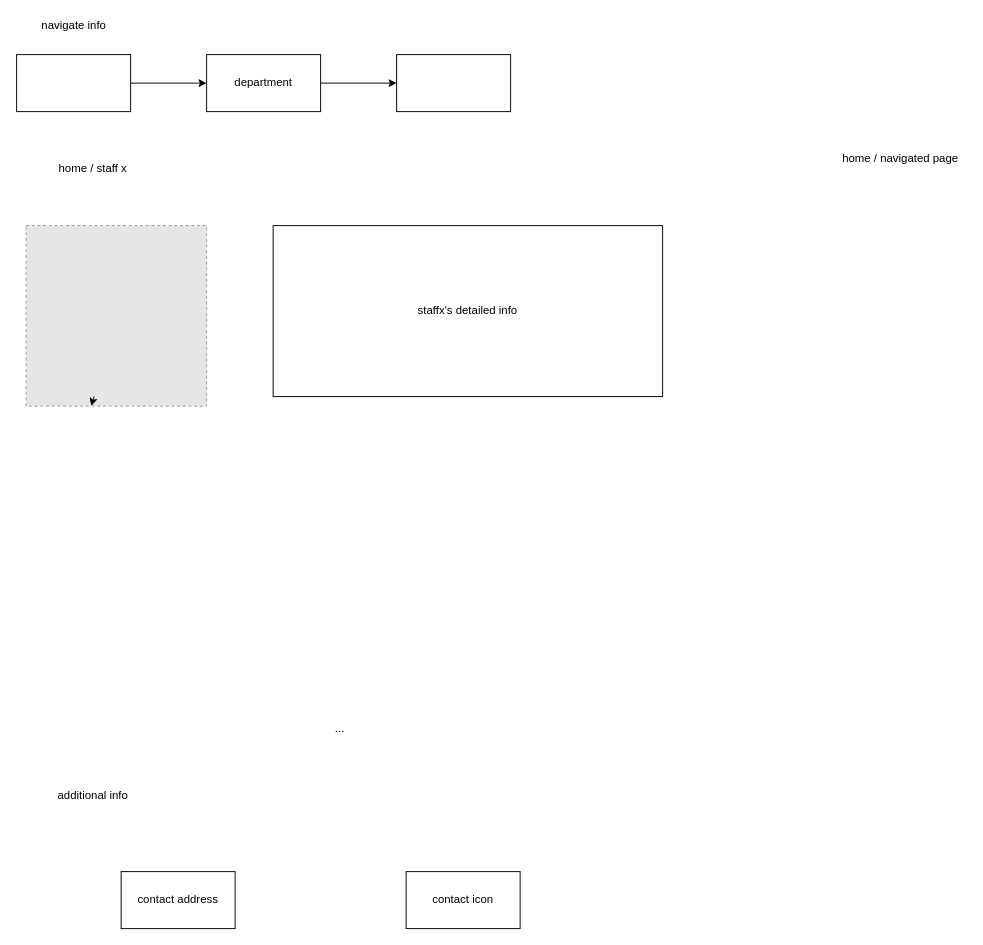
Some shapes in this 983 by 945 pixel diagram are drawn without their labels. Grey dashed boxes stand in for pictures. Here are the shapes that lost their labels. From the top down, the centre of each, then its label:
At (x=73, y=83): "home".
At (x=453, y=83): "salary".
